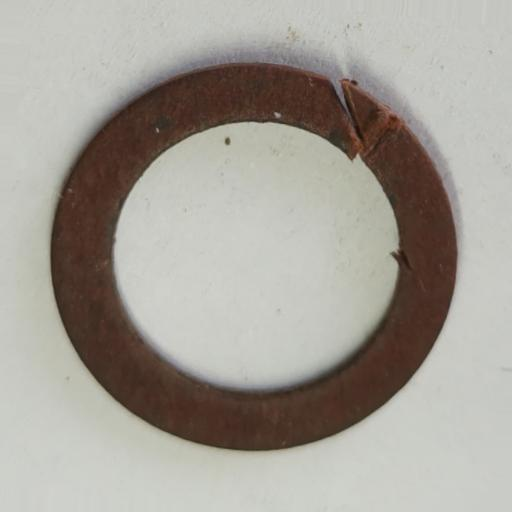defect: (328, 80, 399, 161), (394, 249, 425, 292)
